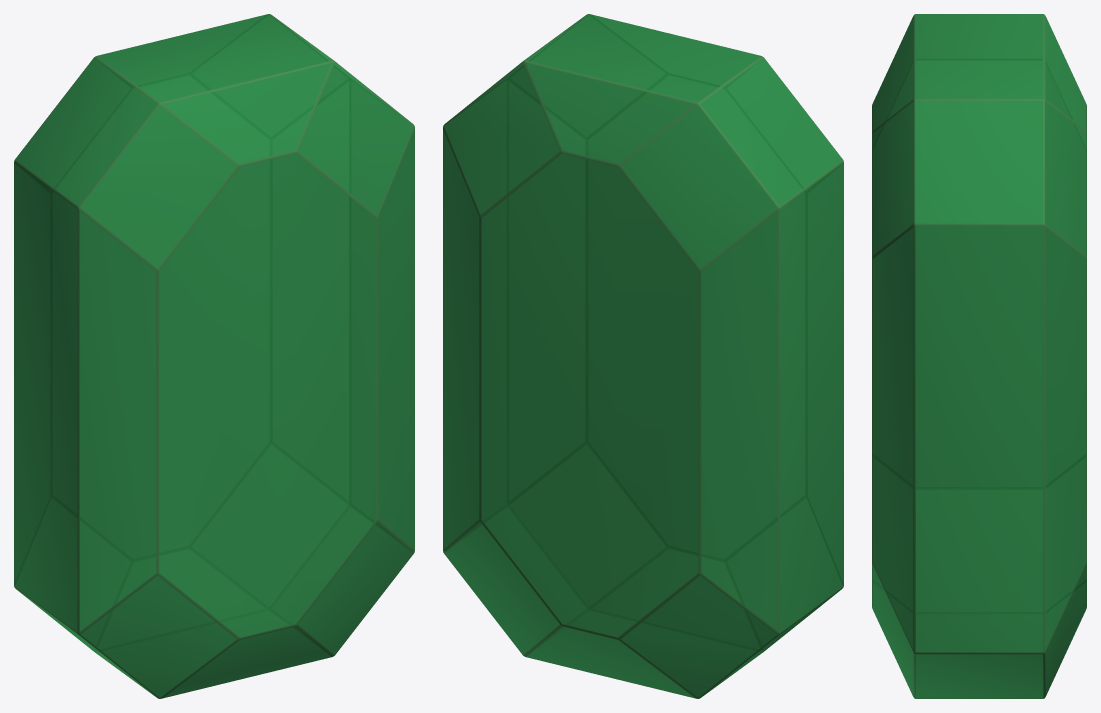
Rendered from New diamond.fbx.
The picture shows the model from 3 angles, left to right: view 1: azimuth 30°, elevation 25°; view 2: azimuth 150°, elevation 25°; view 3: azimuth 270°, elevation 25°; orthographic projection.
Parts seen in each view (by area): view 1: Cube; view 2: Cube; view 3: Cube.
Part boxes in pixels (left/top/right/bottom): Cube: left=14, top=14, right=414, bottom=698; Cube: left=443, top=14, right=843, bottom=698; Cube: left=872, top=14, right=1086, bottom=698.
Bounding box in the file's own units: 6.18 × 10.44 × 3.39.
